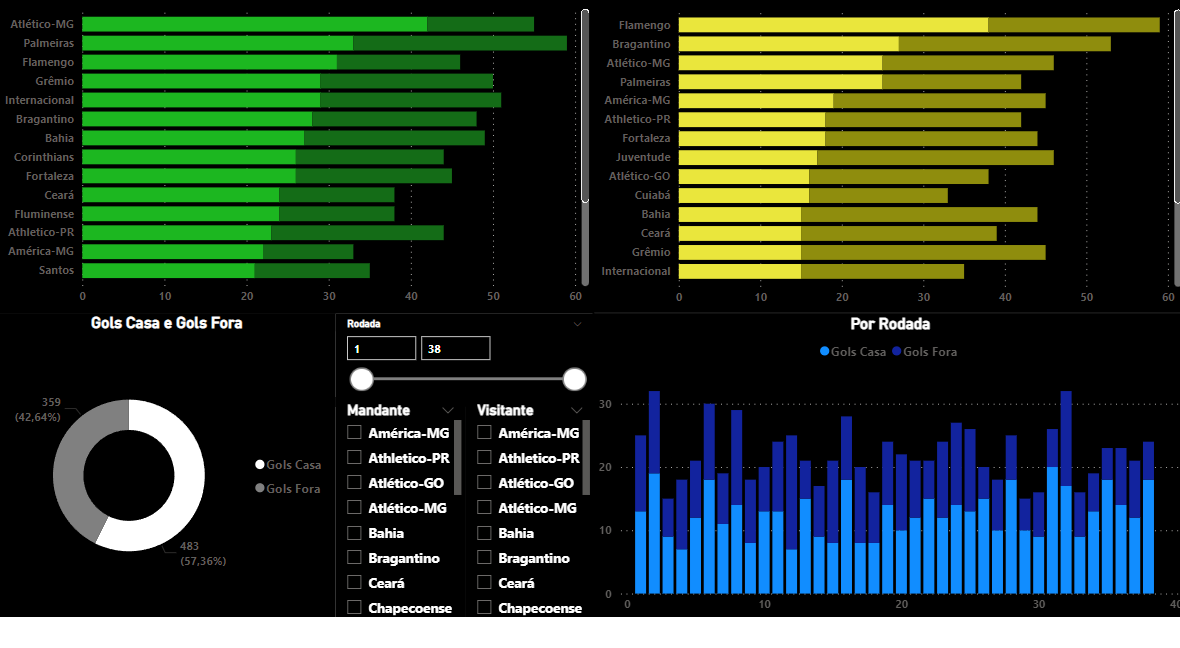

The page's visual inventory and layout, read from the dashboard file:
{"tool":"powerbi","page":{"name":"Página 1","canvas":[1280,720],"ordinal":0},"visuals":[{"type":"barChart","title":"Por Mandante","fields":{"Y":["Planilha1.Gols Casa","Planilha1.Gols Fora"],"Category":["Planilha1.Mandante"]},"box":[0,0,641.3,389.4],"z":0},{"type":"barChart","title":"Por Visitante","fields":{"Category":["Planilha1.Visitante"],"Y":["Planilha1.Gols Fora","Planilha1.Gols Casa"]},"box":[641.4,0,637.3,389.2],"z":1},{"type":"donutChart","fields":{"Y":["Planilha1.Gols Casa","Planilha1.Gols Fora"]},"box":[0,389.2,362,330.8],"z":2},{"type":"slicer","fields":{"Values":["Planilha1.Rodada"]},"box":[362.4,389.4,278.9,101.1],"z":3},{"type":"lineStackedColumnComboChart","title":"Por Rodada","fields":{"Category":["Planilha1.Rodada"],"Y":["Planilha1.Gols Casa","Planilha1.Gols Fora"]},"box":[640,389.2,640,330.8],"z":5},{"type":"slicer","fields":{"Values":["Planilha1.Mandante"]},"box":[362,480,141,240],"z":6},{"type":"slicer","fields":{"Values":["Planilha1.Visitante"]},"box":[503.1,480,139.7,240],"z":7}]}

Visuals, with their boxes in screenshot pixels (x1, y1, x2, y2), scaled from the page's 1280x720 canvas onto the 1180x648 screenshot:
"Por Mandante" barChart: 0, 0, 591, 350
"Por Visitante" barChart: 591, 0, 1179, 350
donutChart - Planilha1.Gols Casa x Planilha1.Gols Fora: 0, 350, 334, 647
slicer - Planilha1.Rodada: 334, 350, 591, 441
"Por Rodada" lineStackedColumnComboChart: 590, 350, 1179, 647
slicer - Planilha1.Mandante: 334, 432, 464, 647
slicer - Planilha1.Visitante: 464, 432, 593, 647
